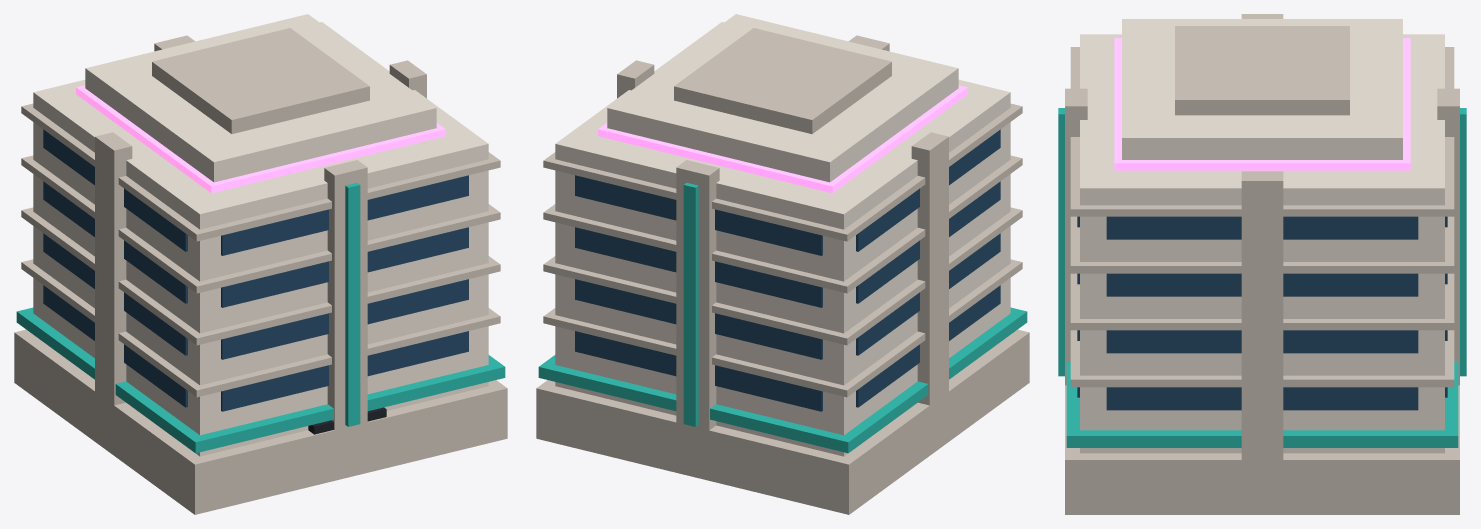
Rendered from building_artdeco.glb.
The picture shows the model from 3 angles, left to right: view 1: azimuth 30°, elevation 25°; view 2: azimuth 150°, elevation 25°; view 3: azimuth 270°, elevation 25°; orthographic projection. The views are drawn at different scales.
Visible parts, largest first — view 1: building_artdeco; view 2: building_artdeco; view 3: building_artdeco.
Boxes of the visible parts, x1=… form: building_artdeco: x1=14, y1=14, x2=507, y2=514; building_artdeco: x1=536, y1=14, x2=1029, y2=514; building_artdeco: x1=1058, y1=14, x2=1466, y2=514.
Size of the model in its own units: 1.04 by 1.07 by 1.08.
